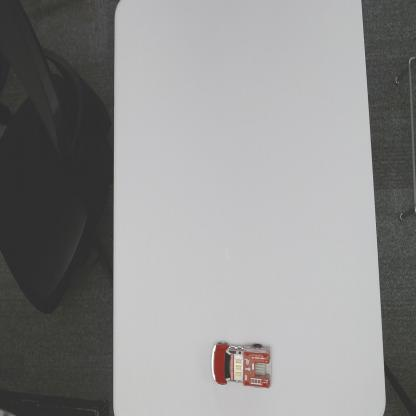Firetruck: (210, 339, 273, 391)
